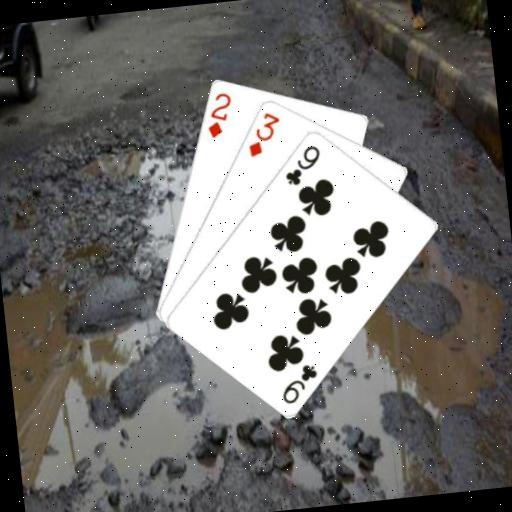2D: (201, 88, 236, 140)
3D: (242, 108, 286, 159)
9C: (279, 140, 325, 188), (276, 360, 322, 406)
